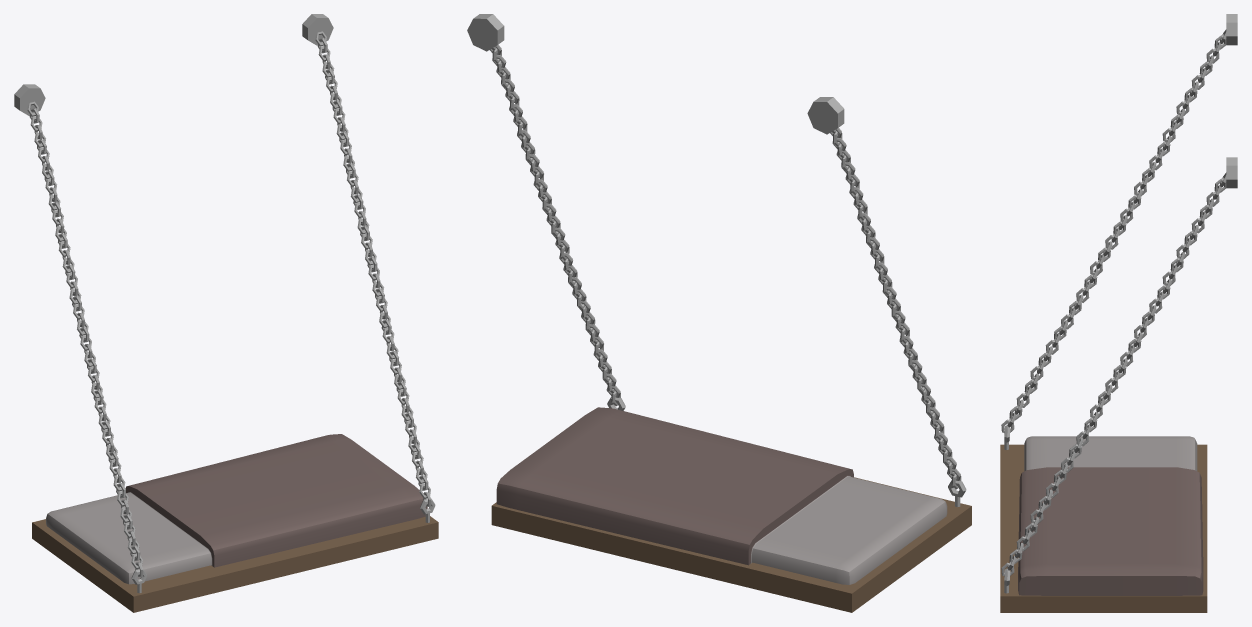
Rendered from Bed.fbx.
3 renders of one model, left to right at view 1: azimuth 30°, elevation 25°; view 2: azimuth 150°, elevation 25°; view 3: azimuth 270°, elevation 25°, orthographic. The views are drawn at different scales.
Parts seen in each view (by area): view 1: pCube3; view 2: pCube3; view 3: pCube3.
Part boxes in pixels (x1,y1,x2,y2): pCube3: (14,14,438,612); pCube3: (467,14,971,612); pCube3: (1000,14,1237,612).
Size of the model in its own units: 15.98 by 21.5 by 10.26.
